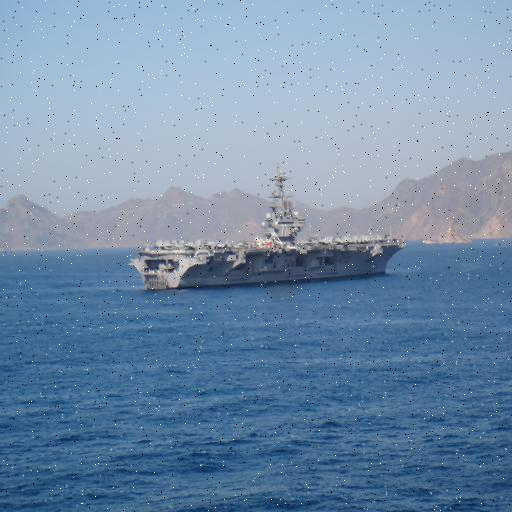Portanaves: (128, 157, 413, 299)
